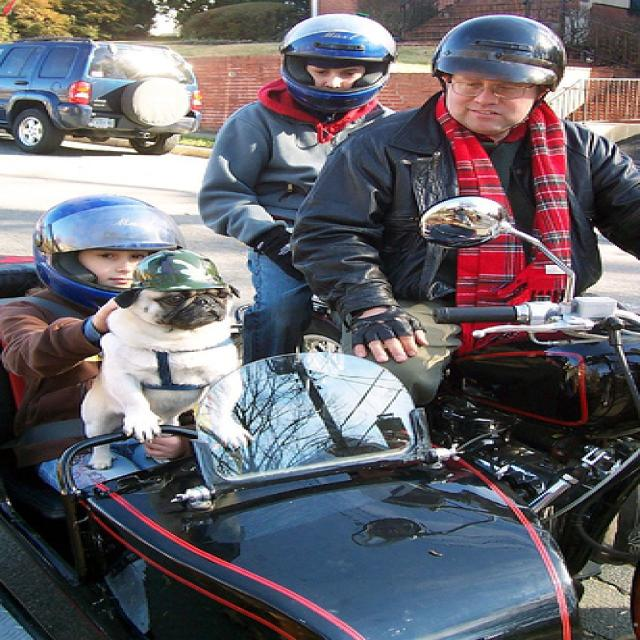motor: (425, 186, 640, 623)
